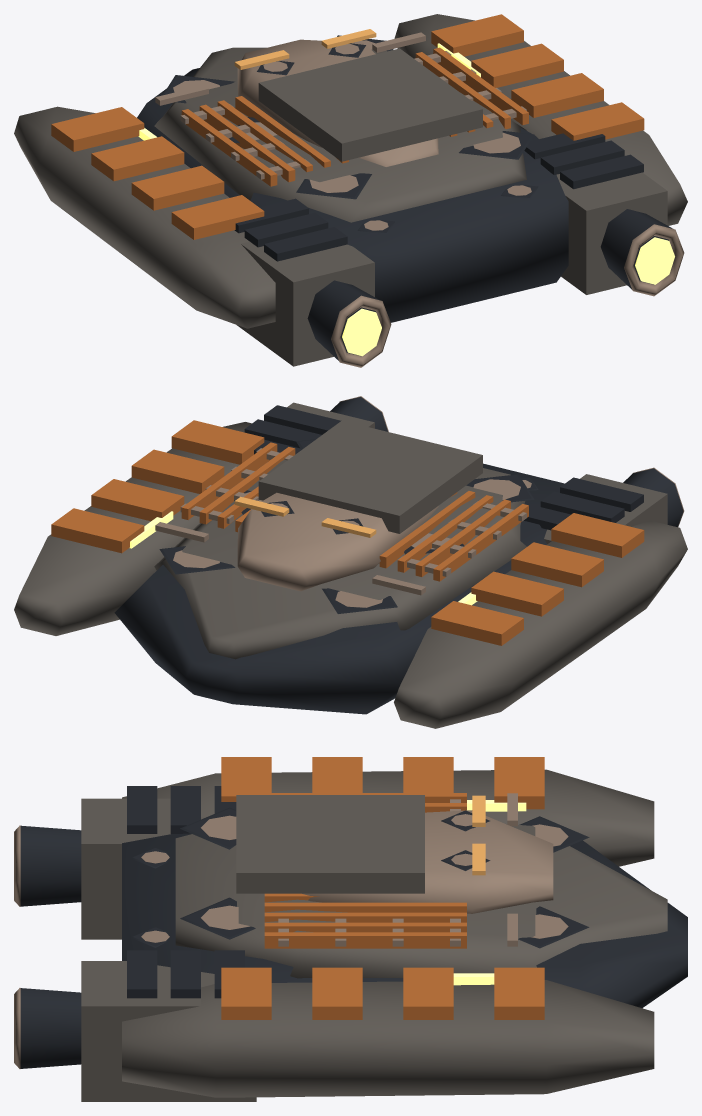
Rendered from compact_high_gravity--patrol_corvette--lod1.glb.
3 renders of one model, top to bottom at view 1: azimuth 30°, elevation 25°; view 2: azimuth 150°, elevation 25°; view 3: azimuth 270°, elevation 25°, orthographic. The views are drawn at different scales.
Visible parts, largest first — view 1: load_bearing_wedge_1, outboard_armor_sponson_47, stepped_main_plate_2, central_citadel_57, armored_drive_block_4, armored_drive_block_25, outboard_armor_sponson_52, reinforced_command_deck_3, replaceable_integral_plate_49, replaceable_integral_plate_50, replaceable_integral_plate_48, replaceable_integral_plate_55 (+28 smaller); view 2: load_bearing_wedge_1, outboard_armor_sponson_47, stepped_main_plate_2, central_citadel_57, outboard_armor_sponson_52, reinforced_command_deck_3, replaceable_integral_plate_51, replaceable_integral_plate_50, replaceable_integral_plate_48, replaceable_integral_plate_49, replaceable_integral_plate_55, replaceable_integral_plate_53 (+23 smaller); view 3: outboard_armor_sponson_52, stepped_main_plate_2, central_citadel_57, load_bearing_wedge_1, outboard_armor_sponson_47, reinforced_command_deck_3, armored_drive_block_25, armored_drive_block_4, engine_shroud_5, engine_shroud_26, deck_load_rib_37, integral_mount_plate_1 (×4) (+20 smaller).
Boxes of the visible parts, left/top/right/bottom form: load_bearing_wedge_1: left=137, top=68, right=568, bottom=322; outboard_armor_sponson_47: left=14, top=106, right=275, bottom=328; stepped_main_plate_2: left=154, top=47, right=526, bottom=222; central_citadel_57: left=258, top=48, right=482, bottom=161; armored_drive_block_4: left=237, top=241, right=374, bottom=366; armored_drive_block_25: left=556, top=172, right=667, bottom=294; outboard_armor_sponson_52: left=394, top=14, right=687, bottom=225; reinforced_command_deck_3: left=237, top=39, right=438, bottom=166; replaceable_integral_plate_49: left=91, top=136, right=184, bottom=181; replaceable_integral_plate_50: left=131, top=165, right=224, bottom=210; replaceable_integral_plate_48: left=51, top=107, right=144, bottom=151; replaceable_integral_plate_55: left=511, top=73, right=603, bottom=117; load_bearing_wedge_1: left=114, top=463, right=564, bottom=714; outboard_armor_sponson_47: left=394, top=520, right=687, bottom=728; stepped_main_plate_2: left=154, top=459, right=526, bottom=659; central_citadel_57: left=258, top=420, right=482, bottom=533; outboard_armor_sponson_52: left=14, top=422, right=251, bottom=635; reinforced_command_deck_3: left=237, top=492, right=438, bottom=591; replaceable_integral_plate_51: left=551, top=513, right=644, bottom=557; replaceable_integral_plate_50: left=511, top=542, right=603, bottom=587; replaceable_integral_plate_48: left=431, top=601, right=523, bottom=645; replaceable_integral_plate_49: left=471, top=571, right=563, bottom=616; replaceable_integral_plate_55: left=131, top=449, right=224, bottom=493; replaceable_integral_plate_53: left=51, top=508, right=144, bottom=553; outboard_armor_sponson_52: left=122, top=980, right=654, bottom=1097; stepped_main_plate_2: left=175, top=823, right=667, bottom=978; central_citadel_57: left=236, top=795, right=424, bottom=893; load_bearing_wedge_1: left=122, top=833, right=687, bottom=1008; outboard_armor_sponson_47: left=122, top=769, right=654, bottom=866; reinforced_command_deck_3: left=302, top=810, right=553, bottom=913; armored_drive_block_25: left=81, top=961, right=256, bottom=1101; armored_drive_block_4: left=81, top=798, right=204, bottom=939; engine_shroud_5: left=20, top=825, right=81, bottom=906; engine_shroud_26: left=20, top=988, right=81, bottom=1068; deck_load_rib_37: left=264, top=932, right=466, bottom=948; integral_mount_plate_1 (×4): left=180, top=807, right=589, bottom=948.
Bounding box in the file's own units: 156 × 49 × 168.
